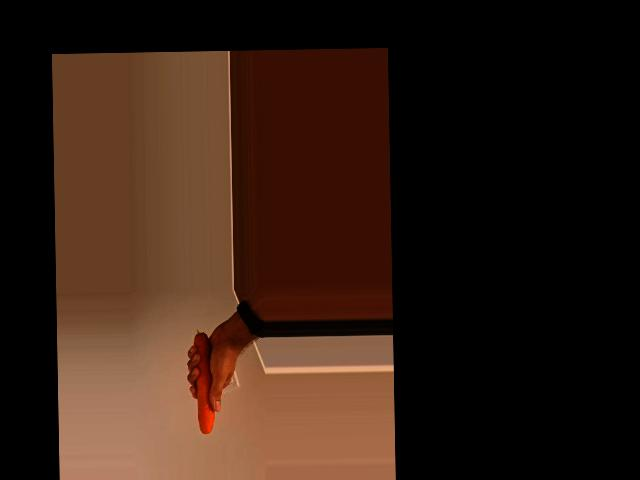carrot: (193, 329, 216, 437)
